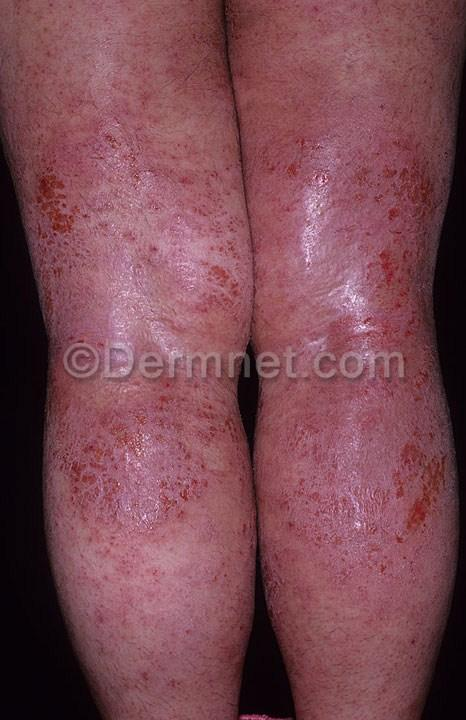Eritema 2: (12, 138, 443, 605)
exudacion 3: (33, 157, 245, 530), (365, 155, 448, 552)
